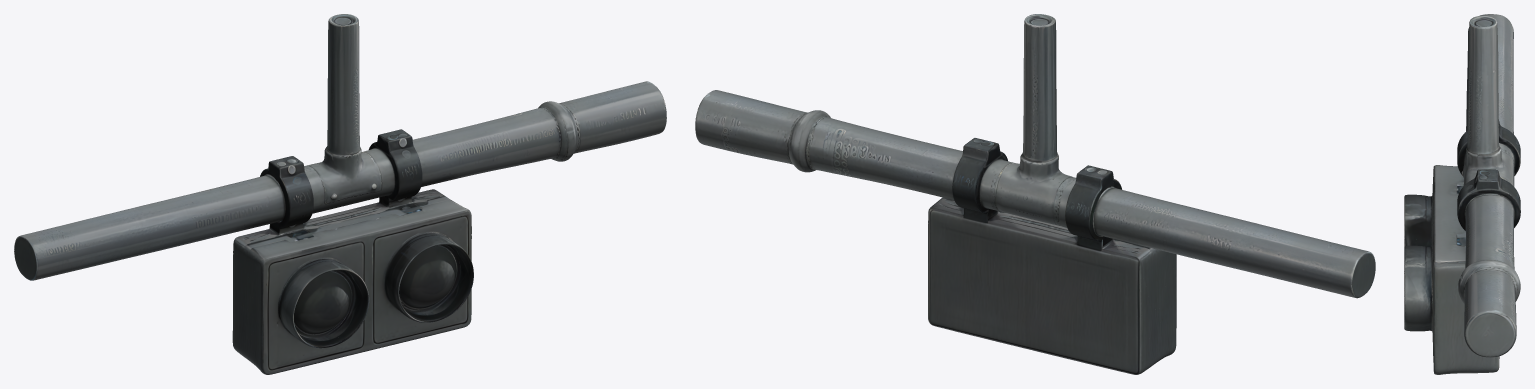
File: Industrial Signal Light.glb
3 renders of one model, left to right at view 1: azimuth 30°, elevation 25°; view 2: azimuth 150°, elevation 25°; view 3: azimuth 270°, elevation 25°, orthographic. The views are drawn at different scales.
Parts seen in each view (by area): view 1: input; view 2: input; view 3: input.
Boxes of the visible parts, x1,y1,x2,y2 form: input: (14, 14, 666, 374); input: (695, 14, 1375, 374); input: (1404, 14, 1520, 374).
Bounding box in the file's own units: 1 × 0.4769 × 0.1644.
1 material, 1 textured.
